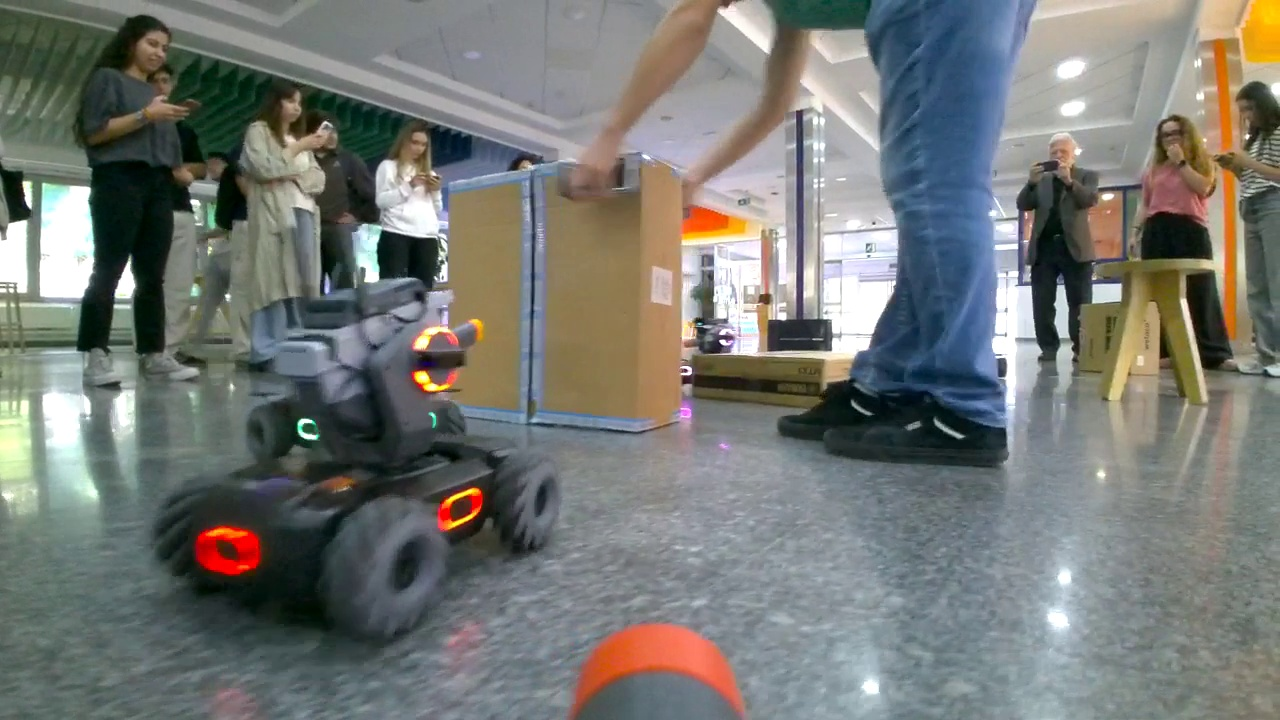robot: (151, 276, 565, 651)
